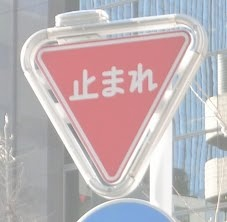Regulatory_sign_triangle: (24, 25, 193, 184)
